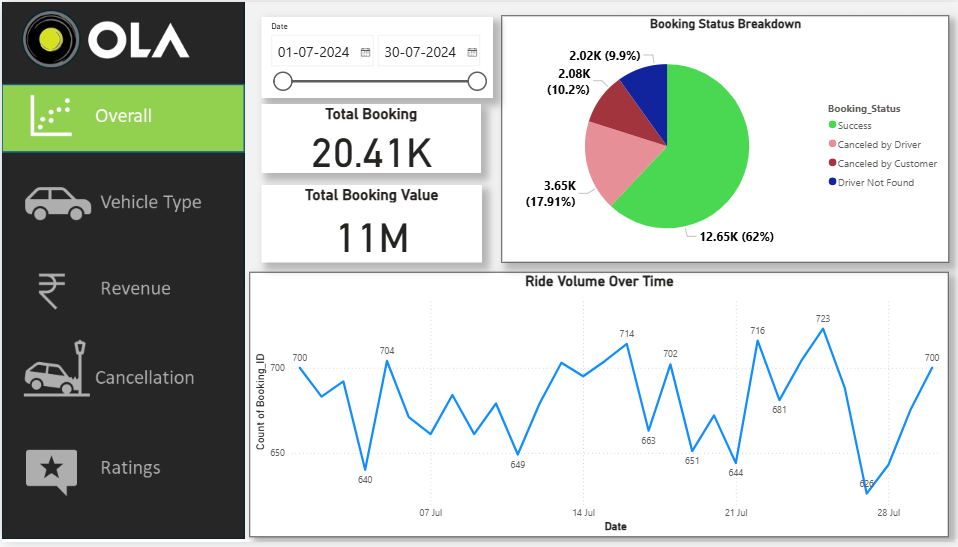

What the dashboard file says about the page in this screenshot:
{"tool":"powerbi","page":{"name":"Over all","canvas":[1280,720],"ordinal":0},"visuals":[{"type":"actionButton","box":[11.1,214.7,308.6,101.8],"z":1000},{"type":"lineChart","title":"Ride Volume Over Time","fields":{"Y":["CountNonNull(July.Booking_ID)"],"Category":["July.Date"]},"box":[330.8,359.5,932.1,353.1],"z":2000},{"type":"pieChart","title":"Booking Status Breakdown ","fields":{"Y":["CountNonNull(July.Booking_Status)"],"Category":["July.Booking_Status"]},"box":[666.5,17.5,596.5,329.3],"z":3000},{"type":"actionButton","box":[11.1,334,308.6,101.8],"z":4000},{"type":"actionButton","box":[11.1,454.9,308.6,101.8],"z":5000},{"type":"actionButton","box":[11.1,572.6,308.6,101.8],"z":6000},{"type":"slicer","fields":{"Values":["July.Date"]},"box":[345.2,20.7,308.6,108.2],"z":7000},{"type":"card","title":"Total Booking","fields":{"Values":["CountNonNull(July.Booking_ID)"]},"box":[346.8,136.8,292.7,92.3],"z":8000},{"type":"card","title":"Total Booking Value","fields":{"Values":["Sum(July.Booking_Value)"]},"box":[346.8,243.4,294.3,103.4],"z":9000}]}

Visuals, with their boxes on the page's 1280x720 design canvas (x1, y1, x2, y2). These are canvas units, not pixel positions in the 958x547 screenshot, which may show the page scaled, cropped or inside an application window:
actionButton: rect(11, 215, 320, 316)
"Ride Volume Over Time" lineChart: rect(331, 360, 1263, 713)
"Booking Status Breakdown " pieChart: rect(666, 18, 1263, 347)
actionButton: rect(11, 334, 320, 436)
actionButton: rect(11, 455, 320, 557)
actionButton: rect(11, 573, 320, 674)
slicer - July.Date: rect(345, 21, 654, 129)
"Total Booking" card: rect(347, 137, 640, 229)
"Total Booking Value" card: rect(347, 243, 641, 347)
